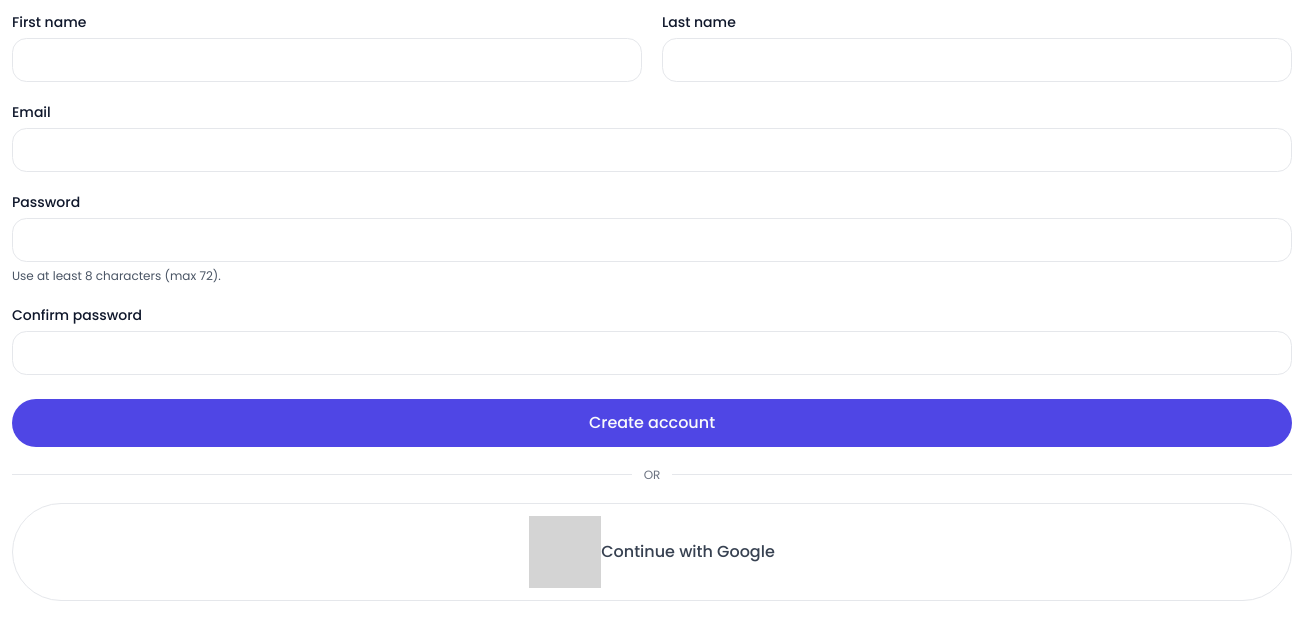
Scenario: SignUpForm › switches to the verify step when Cognito asks for confirmation
Type "Jane" into the field labelled "First name".
click(327, 60); type("Jane")  # box top-left (12, 38), bottom-right (642, 82)
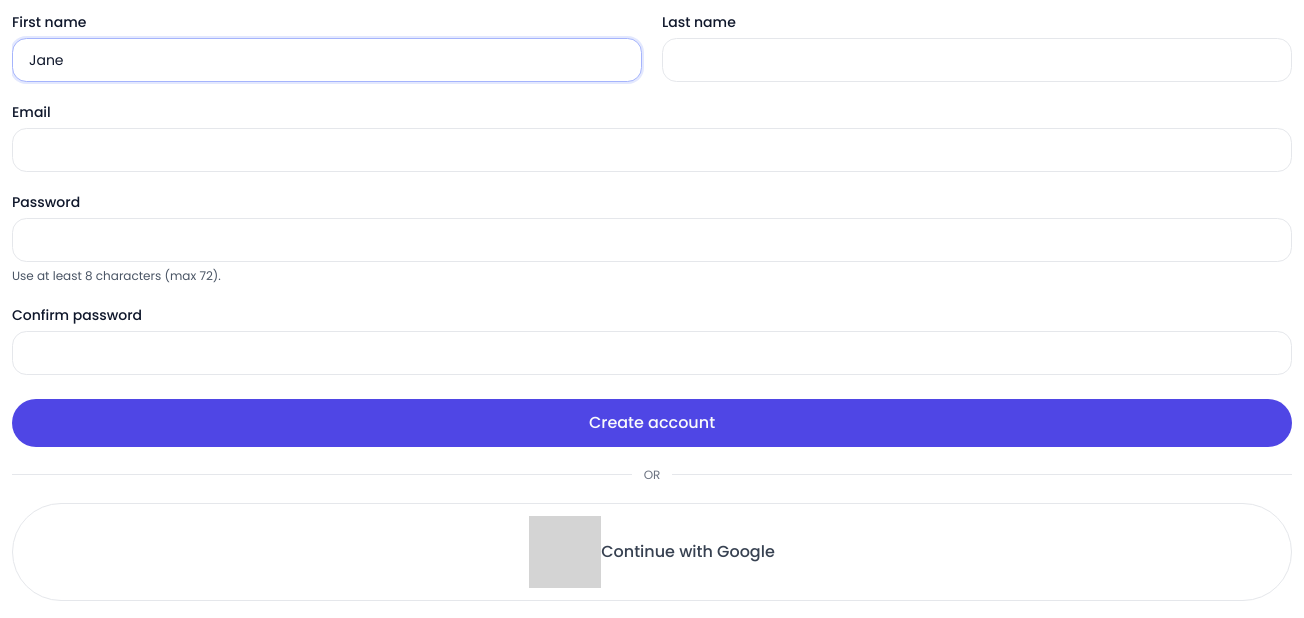
Type "Doe" into the field labelled "Last name".
click(977, 60); type("Doe")  # box top-left (662, 38), bottom-right (1292, 82)
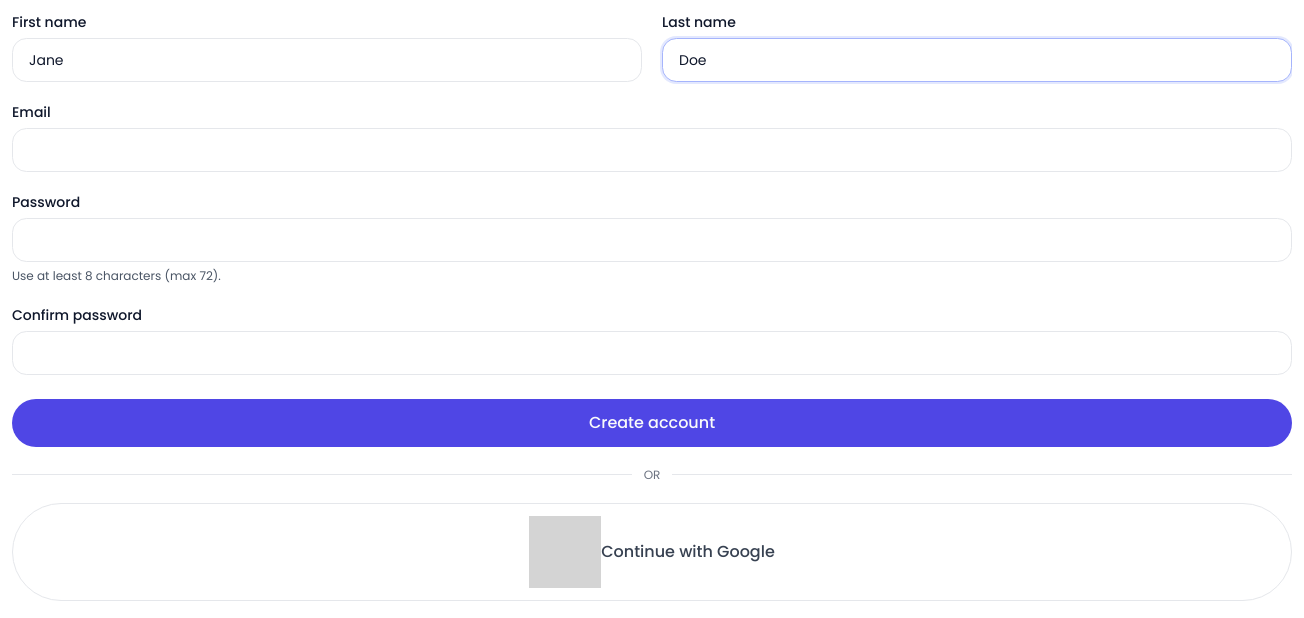
Type "jane@example.com" into the field labelled "Email".
click(652, 150); type("jane@example.com")  # box top-left (12, 128), bottom-right (1292, 172)
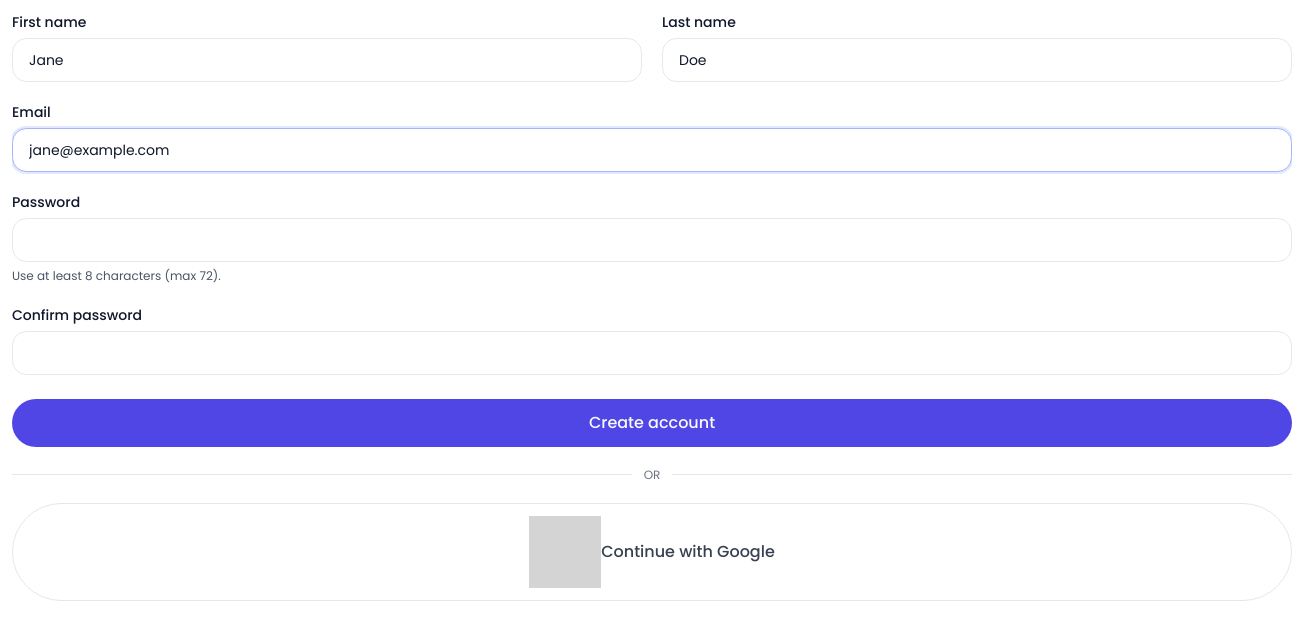
Type "Secret123!" into the password field labelled "Password".
click(652, 240); type("Secret123!")  # box top-left (12, 218), bottom-right (1292, 262)
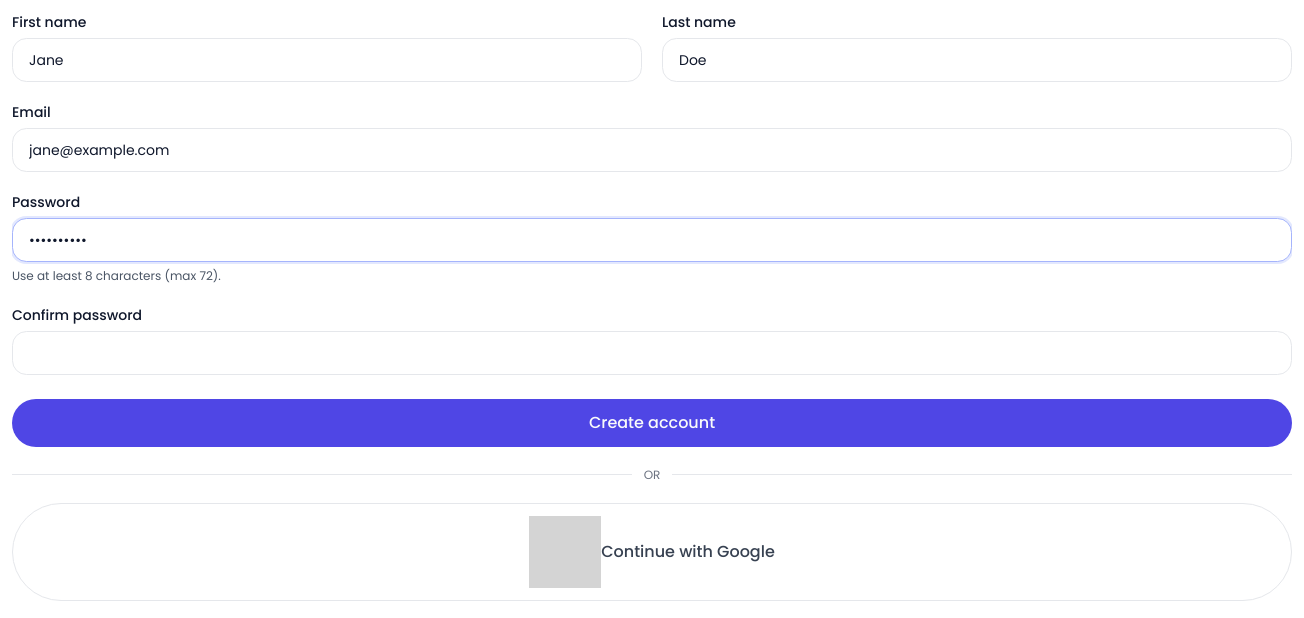
Type "Secret123!" into the password field labelled "Confirm password".
click(652, 352); type("Secret123!")  # box top-left (12, 330), bottom-right (1292, 374)
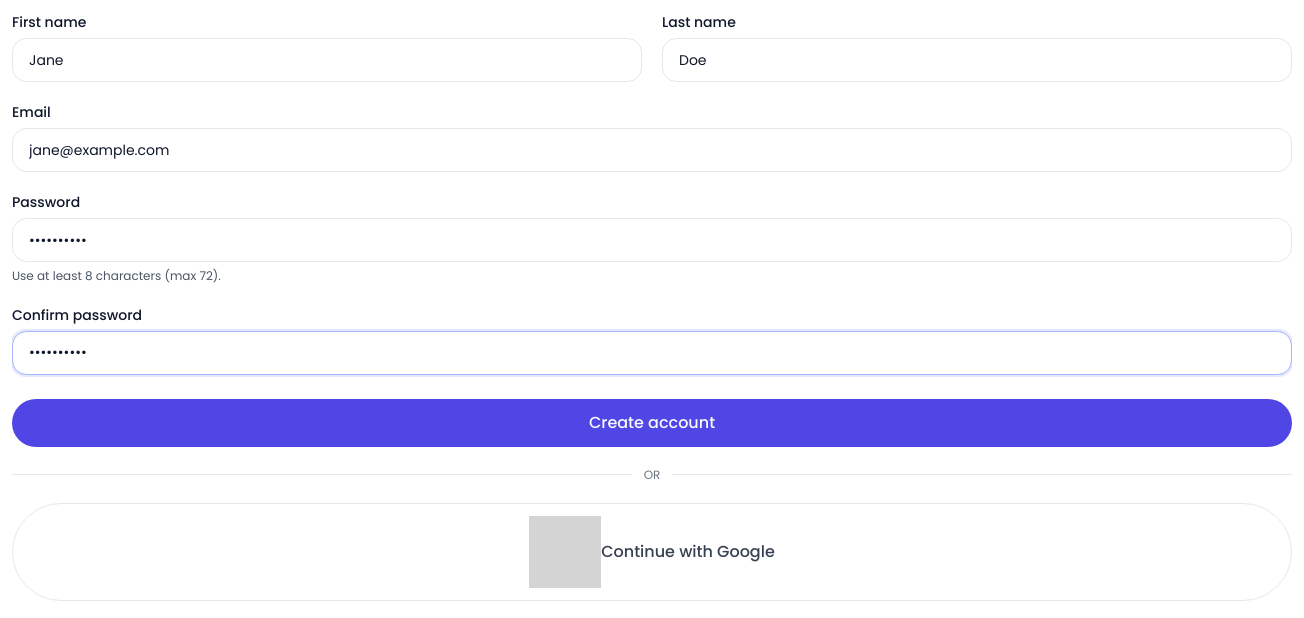
Click the button "Create account".
click(652, 422)  # box top-left (12, 398), bottom-right (1292, 446)
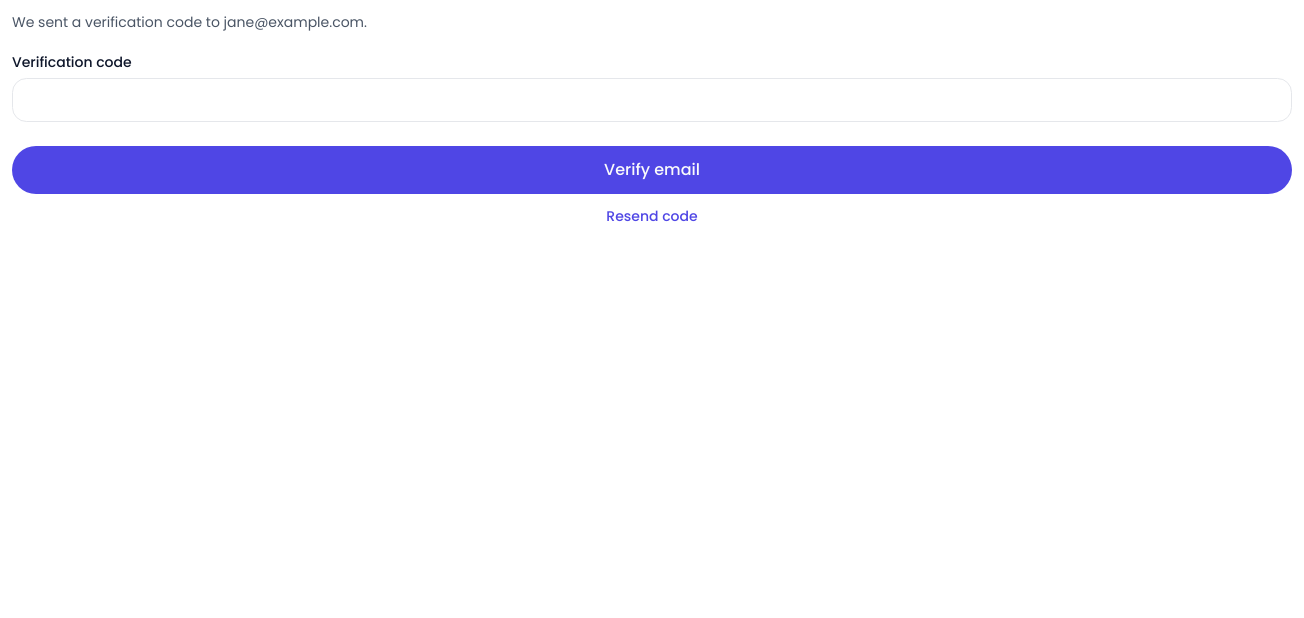
Expected: the field labelled "Verification code" is shown, top-left (12, 78), bottom-right (1292, 122)
Expected: the message shows "jane@example.com", top-left (12, 12), bottom-right (367, 32)
